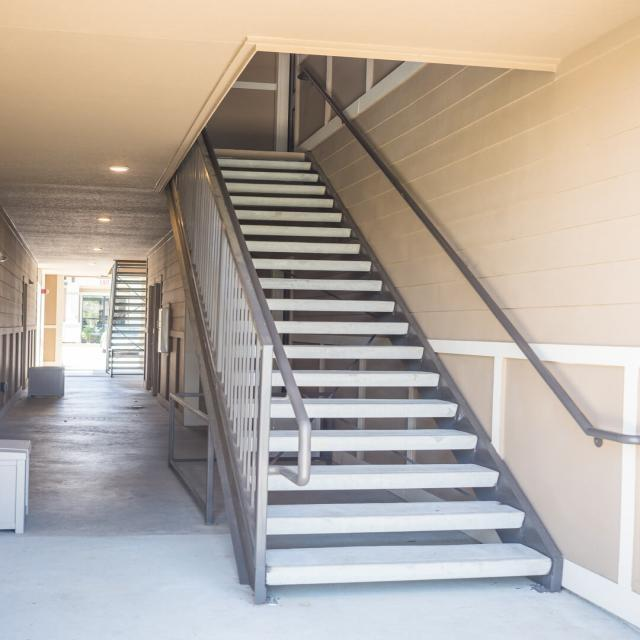stairs: (208, 146, 561, 593)
